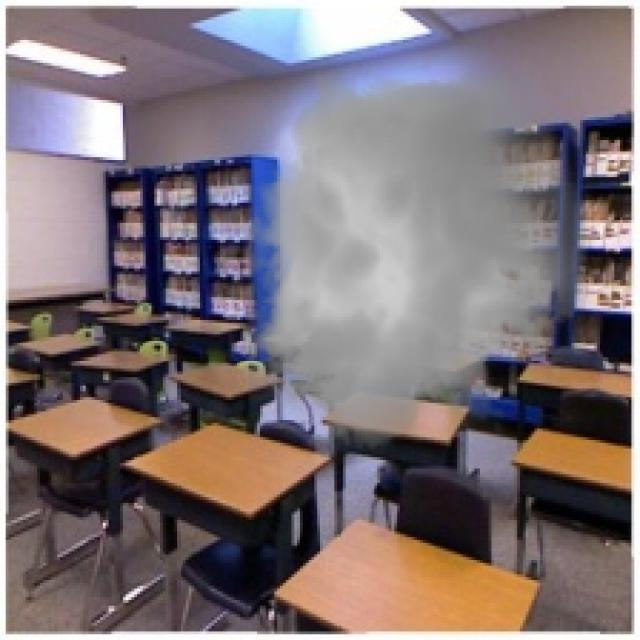Smoke: (231, 51, 600, 463)
